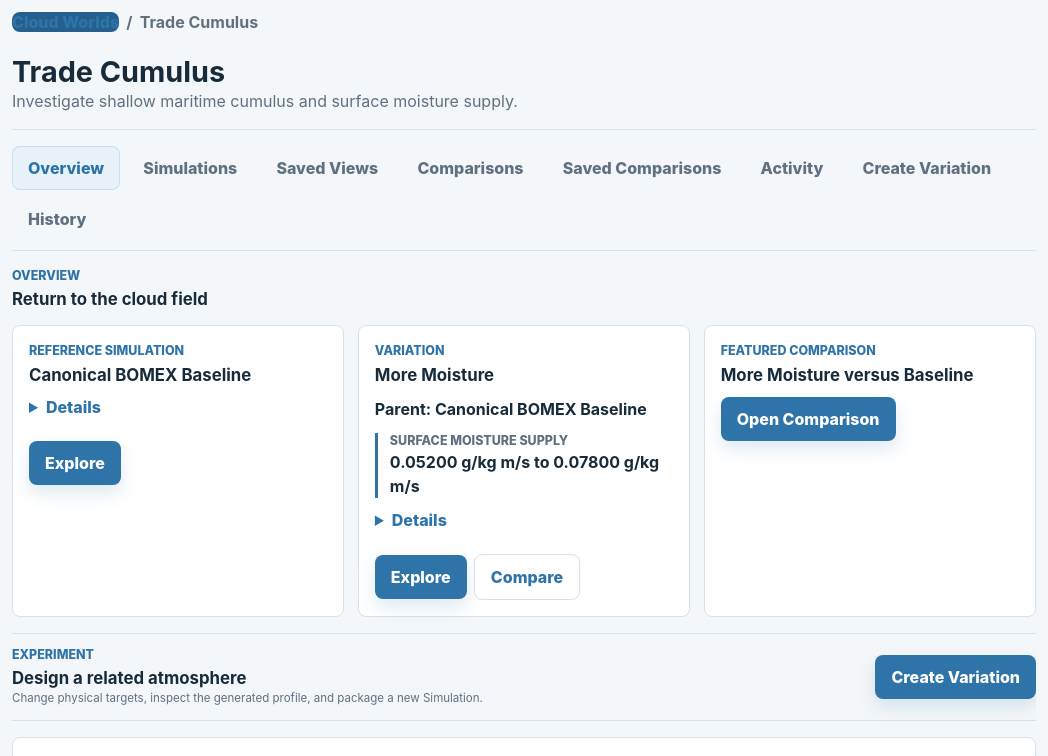
TradeCumulusWorld › keeps Saved Views honest and moves lifecycle browsing to Activity and History
The image size is (1048, 756).
Expected: the heading "Trade Cumulus" is shown, [12, 54, 225, 89]
Click the button "Saved Views" at (327, 168), box [260, 146, 394, 190]
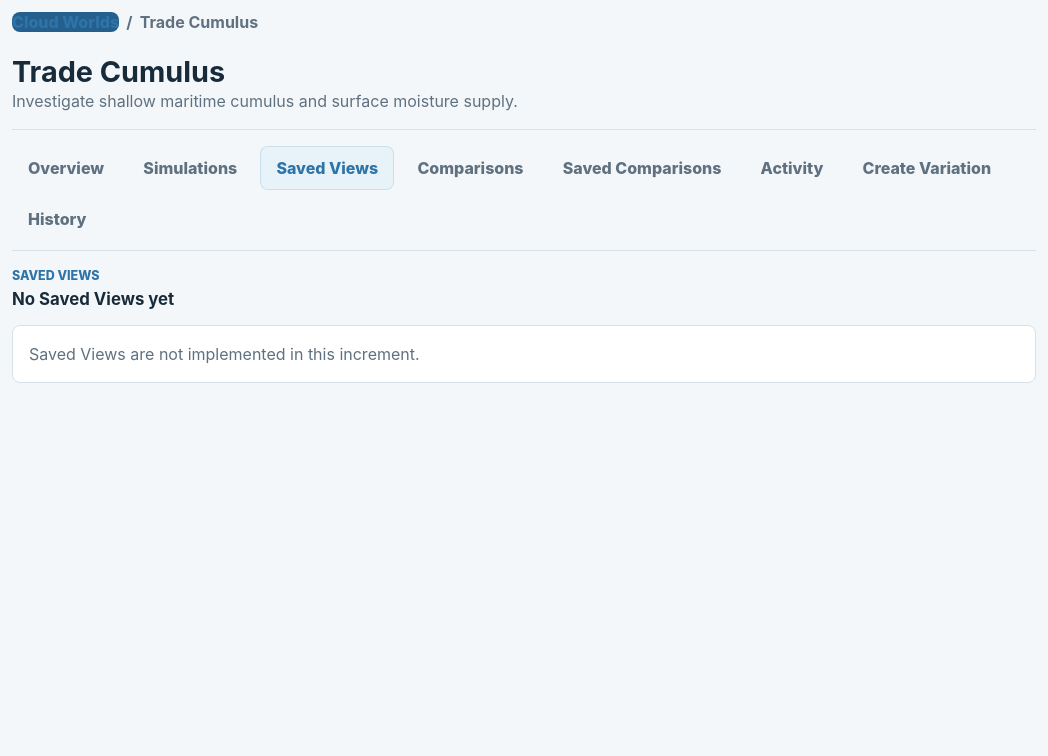
Result: the text "Saved Views are not implemented in this increment." is shown at [29, 344, 420, 364]
Click the button "Activity" at (792, 168), box [745, 146, 839, 190]
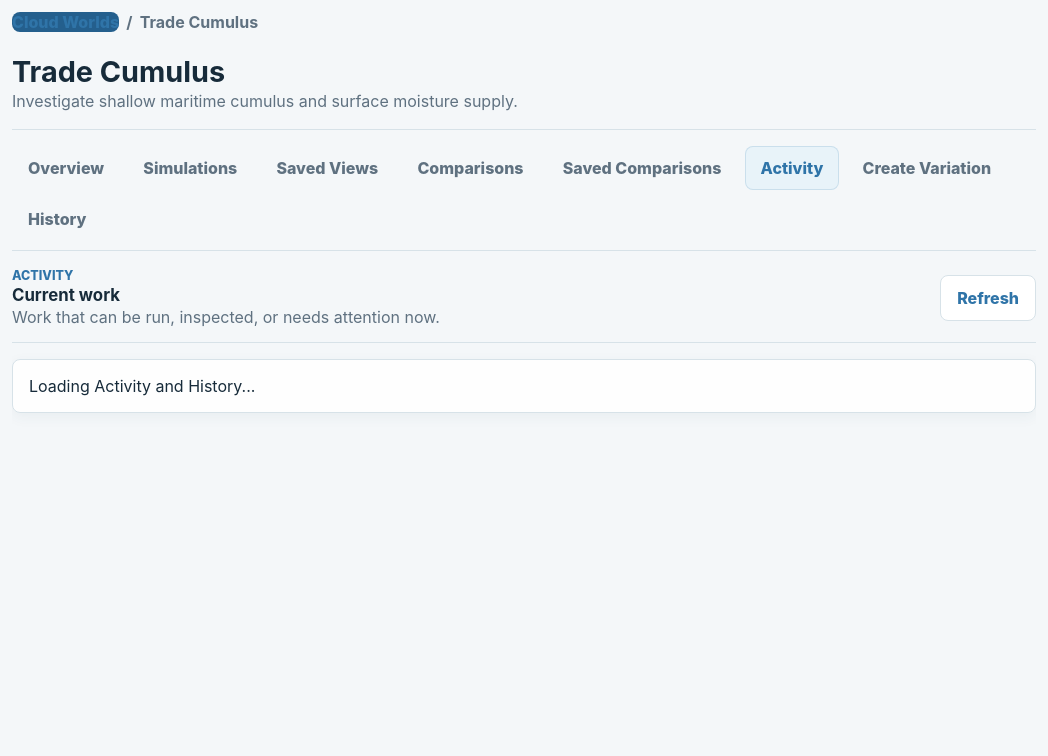
Result: the heading "Current work" is shown at [12, 285, 120, 305]
Click the button "History" at (57, 219), box [12, 197, 102, 241]
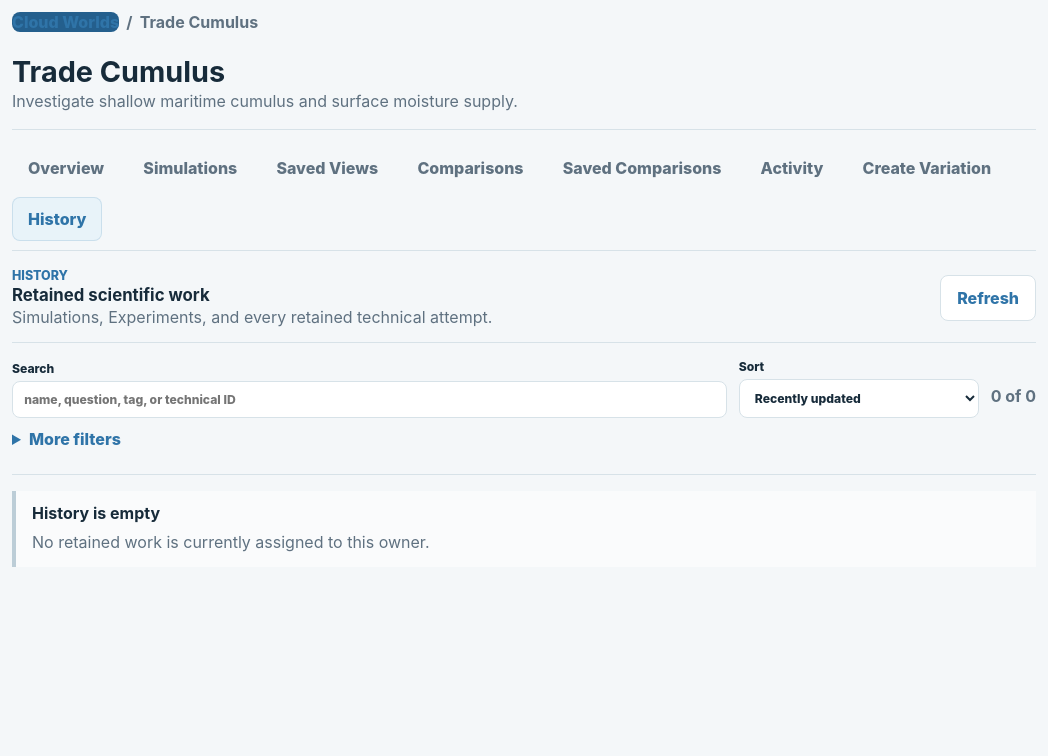
Result: the heading "Retained scientific work" is shown at [12, 285, 210, 305]
